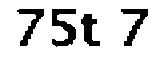5: (50, 10, 77, 50)
7: (115, 5, 152, 50), (12, 5, 47, 51)
t: (79, 12, 102, 53)
